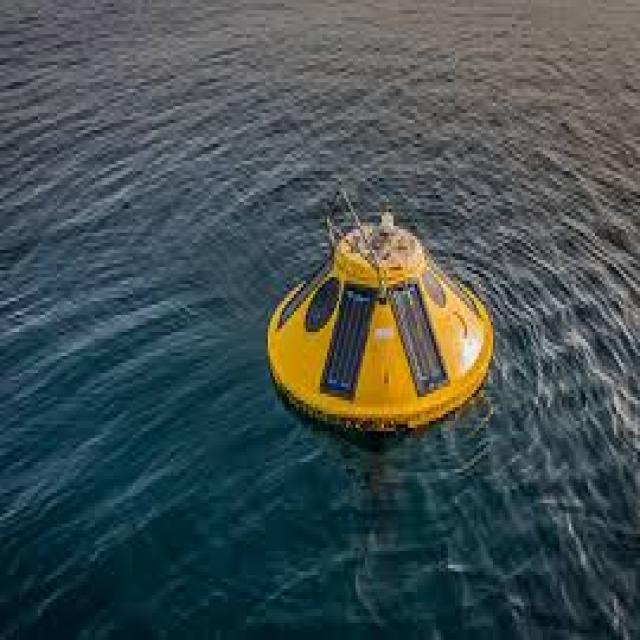marque: (257, 161, 499, 454)
